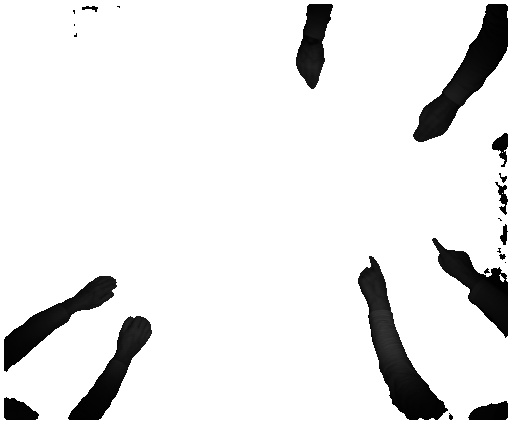hand: (432, 232, 479, 282), (408, 98, 458, 143), (352, 256, 391, 304), (75, 272, 119, 312), (296, 40, 327, 95), (118, 314, 151, 362)
